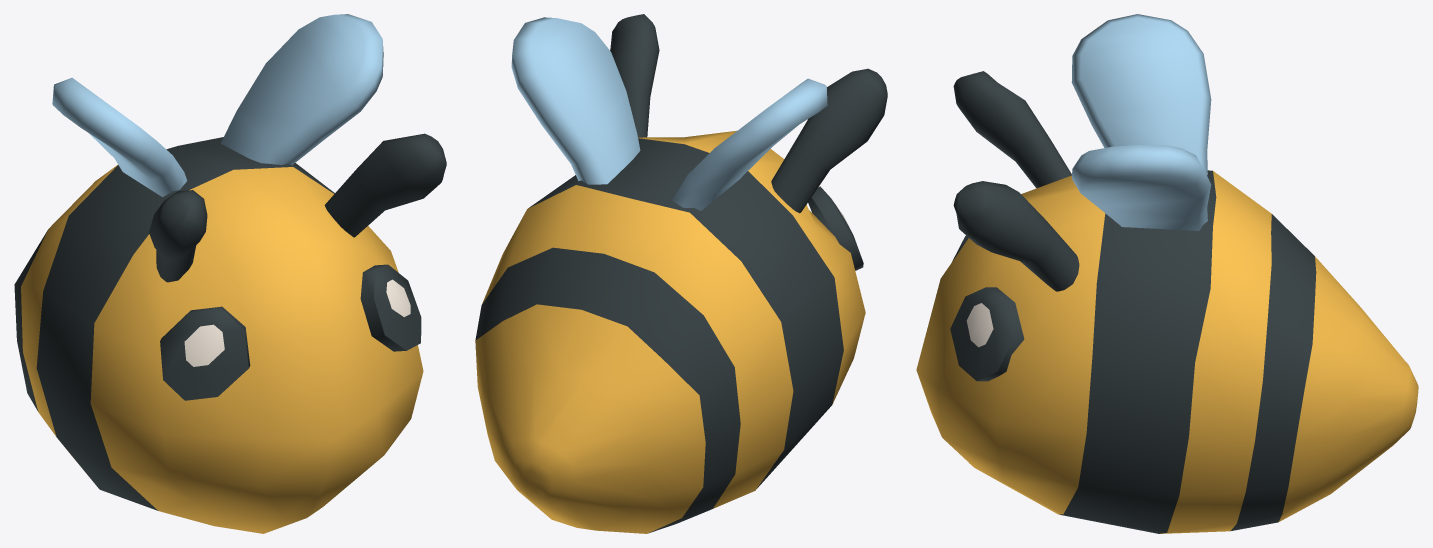
Rendered from Bee_01.fbx.
3 renders of one model, left to right at view 1: azimuth 30°, elevation 25°; view 2: azimuth 150°, elevation 25°; view 3: azimuth 270°, elevation 25°, orthographic. The views are drawn at different scales.
Visible parts, largest first — view 1: Bee_01; view 2: Bee_01; view 3: Bee_01.
Boxes of the visible parts, x1,y1,x2,y2 form: Bee_01: (14, 14, 446, 533); Bee_01: (475, 14, 887, 533); Bee_01: (916, 14, 1418, 533).
Bounding box in the file's own units: 0.1911 × 0.2724 × 0.2788.
